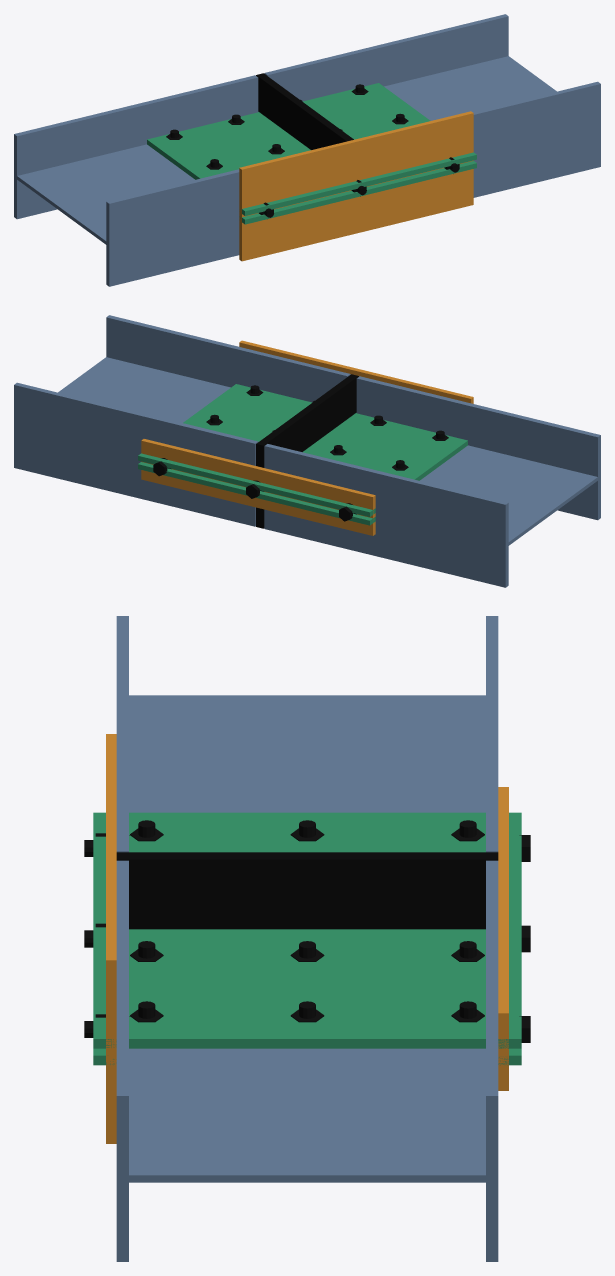
Rendered from detail_D1_splice_connection.obj.
3 renders of one model, top to bottom at view 1: azimuth 30°, elevation 25°; view 2: azimuth 150°, elevation 25°; view 3: azimuth 270°, elevation 25°, orthographic. The views are drawn at different scales.
Visible parts, largest first — view 1: D1_PL10_top_splice_P1, D1_left_beam_segment_top_flange, D1_PL10_web_splice_P2_near, D1_right_beam_segment_top_flange, D1_left_beam_segment_bottom_flange, D1_right_beam_segment_bottom_flange, D1_left_beam_segment_web, D1_right_beam_segment_web, D1_splice_center_gap_marker, D1_PL10_web_splice_P2_far; view 2: D1_left_beam_segment_bottom_flange, D1_right_beam_segment_bottom_flange, D1_PL10_web_splice_P2_near, D1_left_beam_segment_top_flange, D1_right_beam_segment_top_flange, D1_left_beam_segment_web, D1_PL10_bottom_splice_P3, D1_right_beam_segment_web, D1_splice_center_gap_marker, D1_PL10_top_splice_P1, D1_PL10_web_splice_P2_far; view 3: D1_PL10_web_splice_P2_near, D1_right_beam_segment_web, D1_left_beam_segment_web, D1_splice_center_gap_marker, D1_right_beam_segment_top_flange, D1_right_beam_segment_bottom_flange, D1_PL10_top_splice_P1, D1_PL10_bottom_splice_P3, D1_left_beam_segment_top_flange, D1_left_beam_segment_bottom_flange.
Boxes of the visible parts, left/top/right/bottom form: D1_PL10_top_splice_P1: left=239, top=111, right=473, bottom=261; D1_left_beam_segment_top_flange: left=106, top=169, right=239, bottom=286; D1_PL10_web_splice_P2_near: left=147, top=83, right=476, bottom=215; D1_right_beam_segment_top_flange: left=473, top=81, right=600, bottom=197; D1_left_beam_segment_bottom_flange: left=14, top=75, right=258, bottom=219; D1_right_beam_segment_bottom_flange: left=264, top=14, right=508, bottom=101; D1_left_beam_segment_web: left=17, top=144, right=194, bottom=244; D1_right_beam_segment_web: left=384, top=56, right=556, bottom=120; D1_splice_center_gap_marker: left=256, top=73, right=353, bottom=149; D1_PL10_web_splice_P2_far: left=239, top=161, right=476, bottom=224; D1_left_beam_segment_bottom_flange: left=264, top=444, right=508, bottom=587; D1_right_beam_segment_bottom_flange: left=14, top=382, right=258, bottom=526; D1_PL10_web_splice_P2_near: left=138, top=384, right=467, bottom=516; D1_left_beam_segment_top_flange: left=356, top=376, right=600, bottom=520; D1_right_beam_segment_top_flange: left=106, top=315, right=350, bottom=402; D1_left_beam_segment_web: left=420, top=445, right=597, bottom=545; D1_PL10_bottom_splice_P3: left=141, top=439, right=375, bottom=535; D1_right_beam_segment_web: left=58, top=357, right=230, bottom=422; D1_splice_center_gap_marker: left=256, top=374, right=358, bottom=528; D1_PL10_top_splice_P1: left=239, top=340, right=473, bottom=403; D1_PL10_web_splice_P2_far: left=138, top=462, right=375, bottom=525; D1_PL10_web_splice_P2_near: left=93, top=812, right=521, bottom=1048; D1_right_beam_segment_web: left=129, top=1048, right=485, bottom=1182; D1_left_beam_segment_web: left=129, top=695, right=485, bottom=812; D1_splice_center_gap_marker: left=116, top=852, right=498, bottom=929; D1_right_beam_segment_top_flange: left=116, top=860, right=128, bottom=1261; D1_right_beam_segment_bottom_flange: left=486, top=860, right=498, bottom=1261; D1_PL10_top_splice_P1: left=106, top=734, right=116, bottom=1143; D1_PL10_bottom_splice_P3: left=498, top=787, right=508, bottom=1090; D1_left_beam_segment_top_flange: left=116, top=616, right=128, bottom=852; D1_left_beam_segment_bottom_flange: left=486, top=616, right=498, bottom=852.
Size of the model in its own units: 1060 by 189 by 417.
